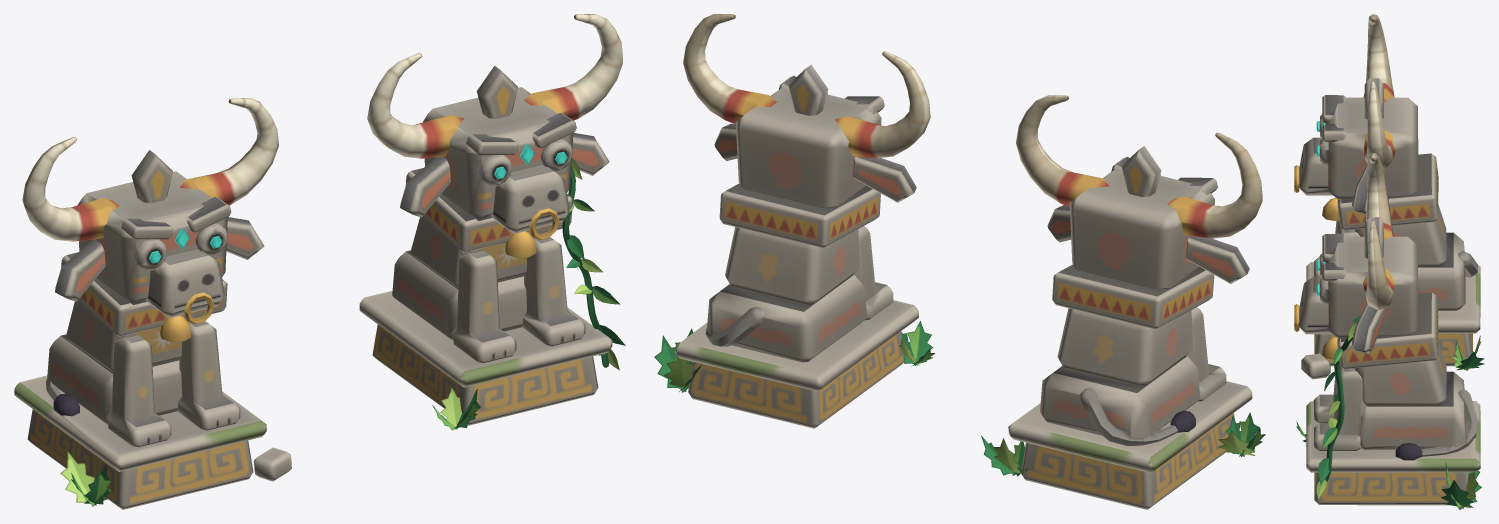
File: gate_guardians.glb
The picture shows the model from 3 angles, left to right: view 1: azimuth 30°, elevation 25°; view 2: azimuth 150°, elevation 25°; view 3: azimuth 270°, elevation 25°; orthographic projection. The views are drawn at different scales.
Visible parts, largest first — view 1: gate_guardians, gate_guardians_glow; view 2: gate_guardians; view 3: gate_guardians.
Part boxes in pixels (x1,y1,x2,y2): gate_guardians: [14, 14, 625, 509]; gate_guardians_glow: [149, 143, 567, 263]; gate_guardians: [654, 14, 1265, 509]; gate_guardians: [1294, 14, 1484, 509].
Bounding box in the file's own units: 11.8 × 6.66 × 3.94.
Materials: 2 (2 with a texture image).
